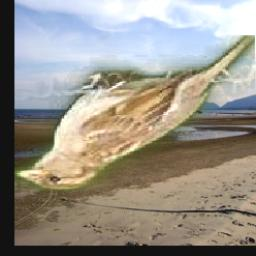Sparrow: (15, 35, 256, 191)
